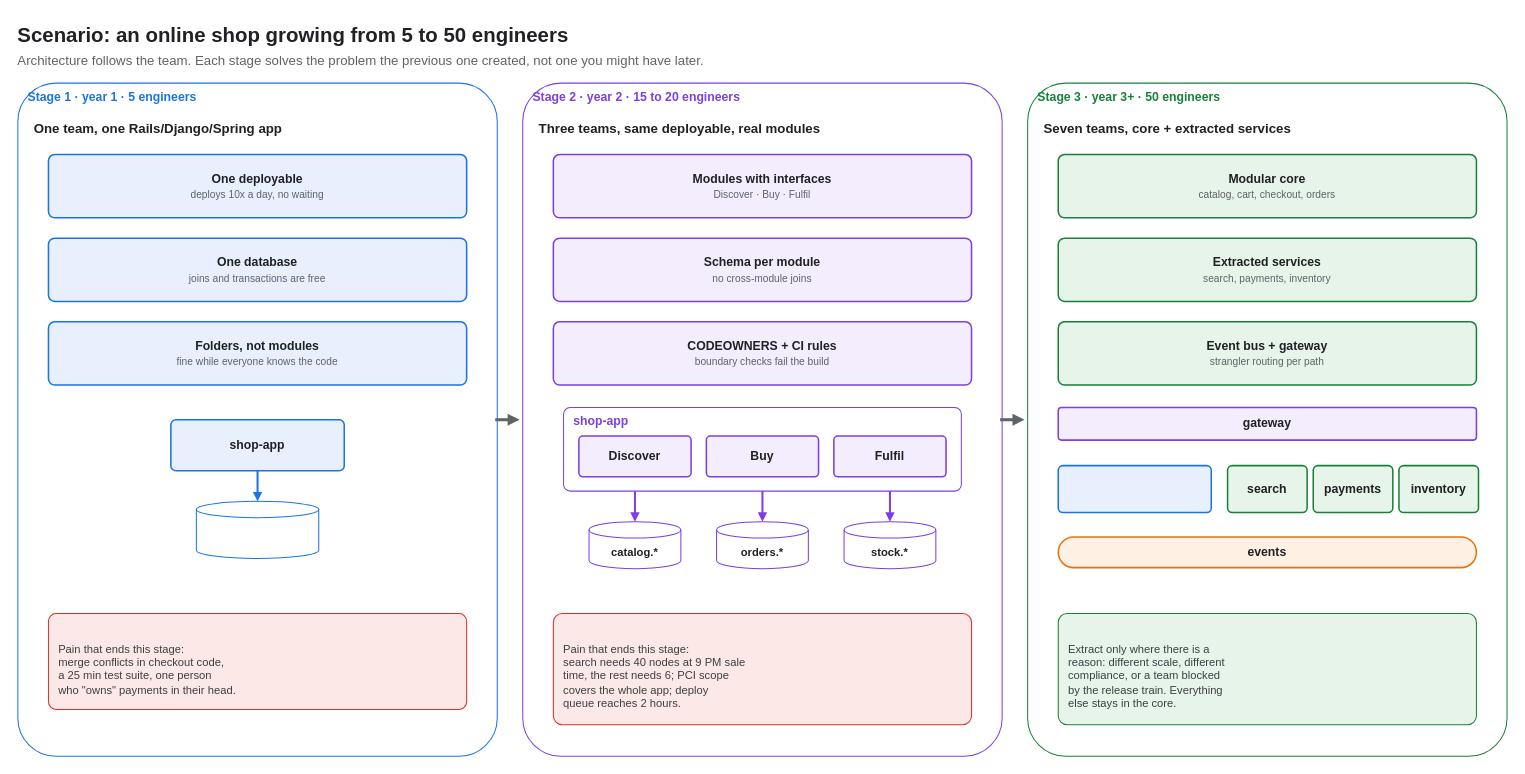
The diagram is 1525 pixels wide and 774 high, and some of its shapes have lost their labels. Here are the shapes that lost their labels. From the top down, the centre of each, then its label:
point (1134, 488): core (modular)
point (257, 529): shop DB
